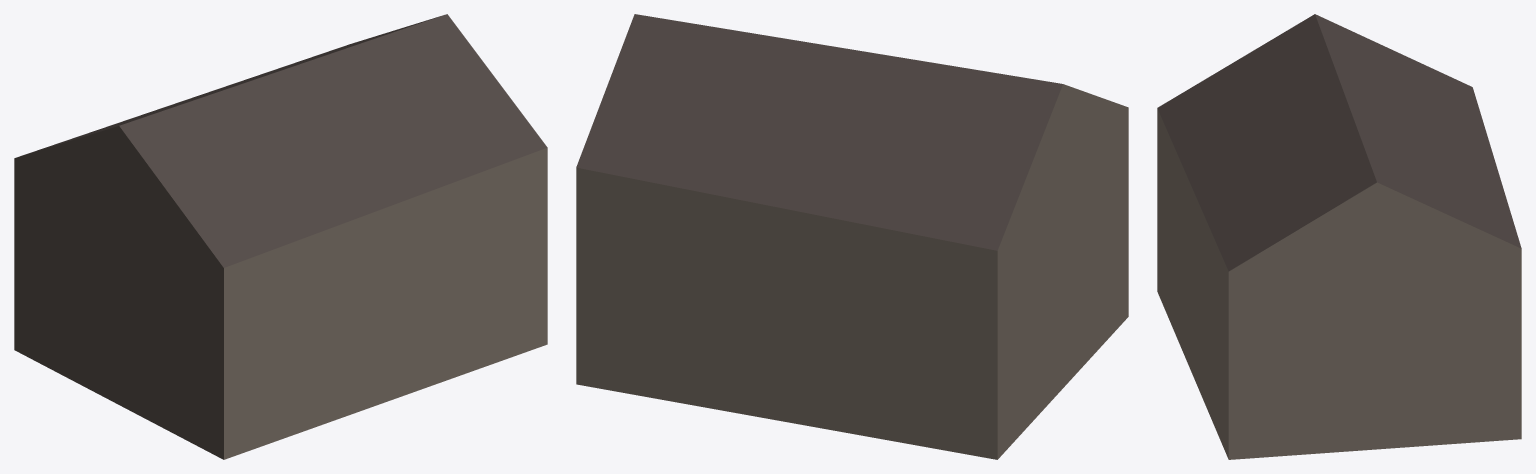
3 renders of one model, left to right at view 1: azimuth 30°, elevation 25°; view 2: azimuth 150°, elevation 25°; view 3: azimuth 270°, elevation 25°, orthographic. The views are drawn at different scales.
Parts seen in each view (by area): view 1: HP-w1365659946; view 2: HP-w1365659946; view 3: HP-w1365659946.
Part boxes in pixels (left/top/right/bottom): HP-w1365659946: left=14, top=14, right=547, bottom=459; HP-w1365659946: left=576, top=14, right=1128, bottom=459; HP-w1365659946: left=1157, top=14, right=1521, bottom=459.
Size of the model in its own units: 13.27 by 8.73 by 10.8.
